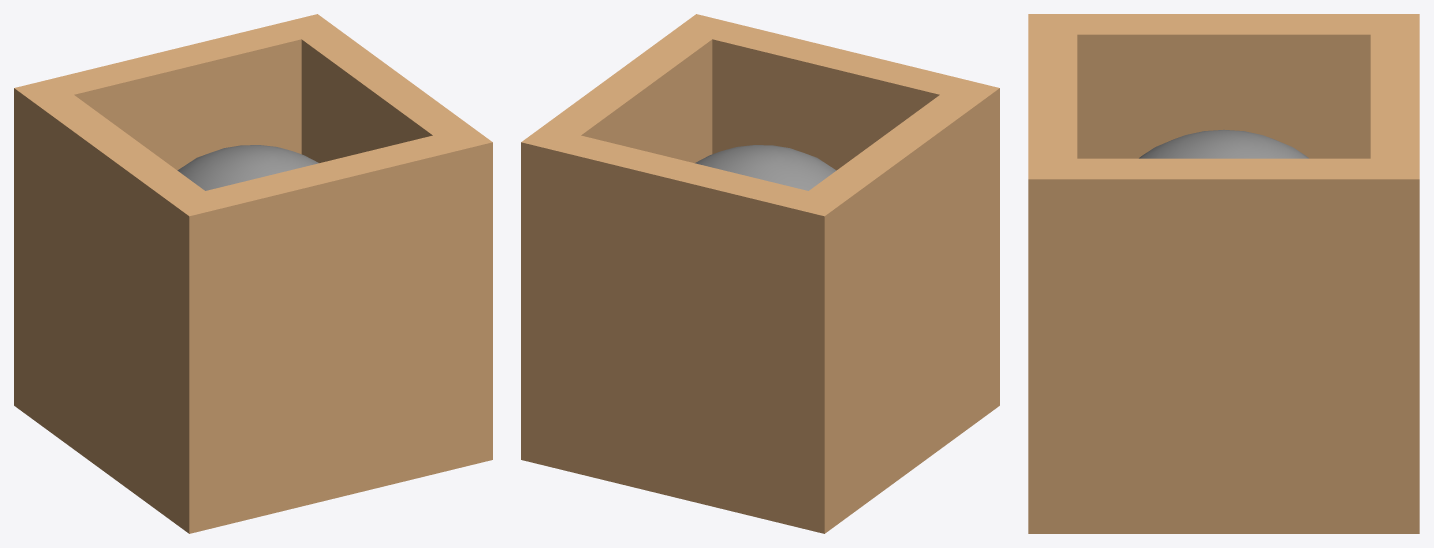
The model's file is houdan_01.fbx.
3 views of the same model, side by side, from view 1: azimuth 30°, elevation 25°; view 2: azimuth 150°, elevation 25°; view 3: azimuth 270°, elevation 25° (orthographic). The views are drawn at different scales.
Visible parts, largest first — view 1: box; view 2: box; view 3: box.
Part boxes in pixels (x1,y1,x2,y2): box: (14, 14, 492, 533); box: (521, 14, 999, 533); box: (1028, 14, 1419, 533).
Bounding box in the file's own units: 1 × 1 × 1.
